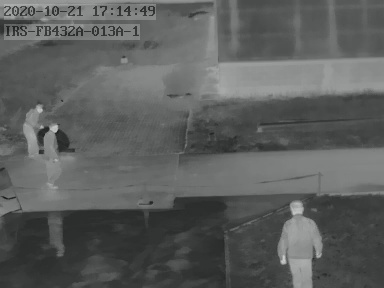person: (278, 198, 324, 287), (43, 123, 61, 188), (21, 103, 42, 155)
